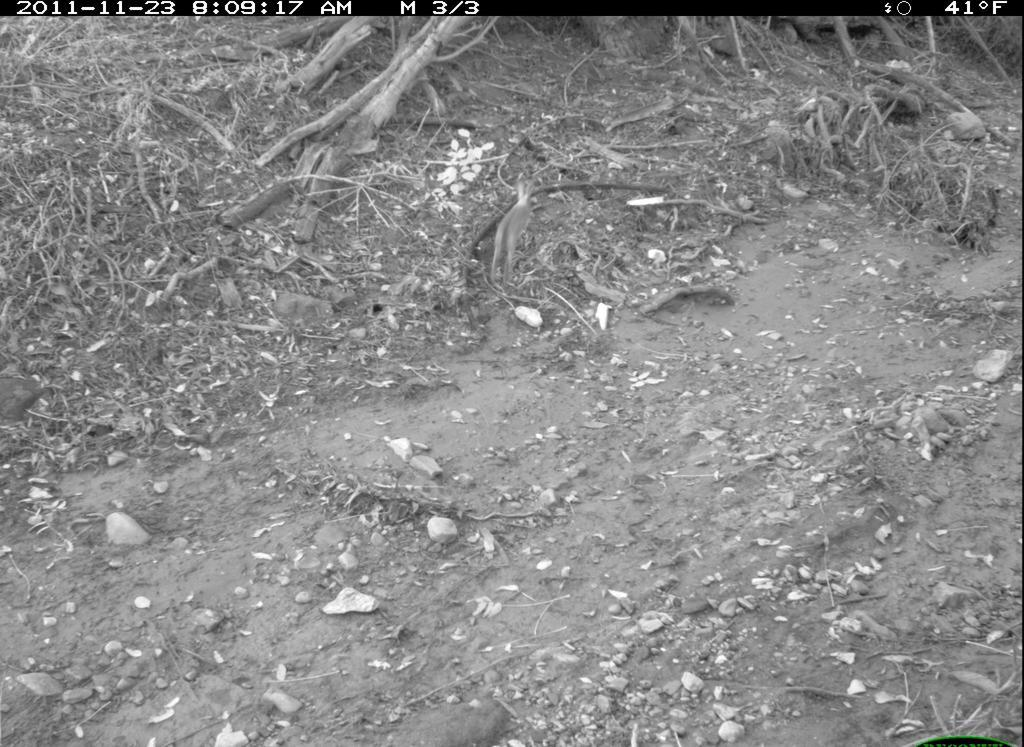rabbit: (470, 176, 545, 290)
